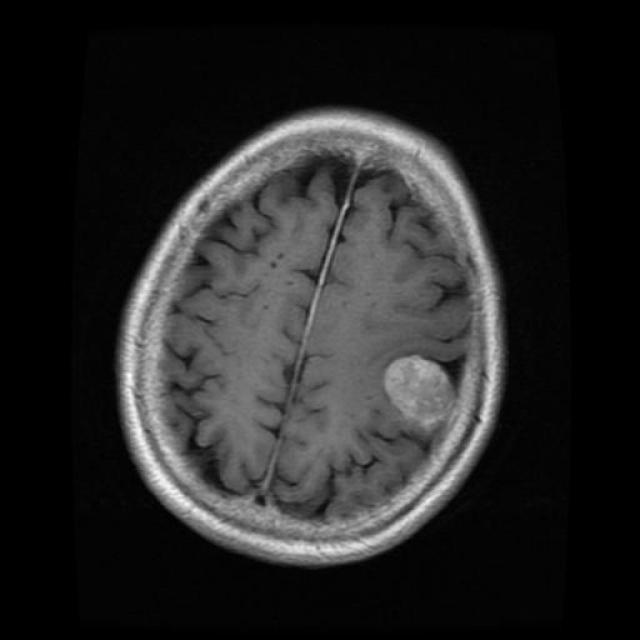Brain-Tumor: (372, 344, 472, 449)
